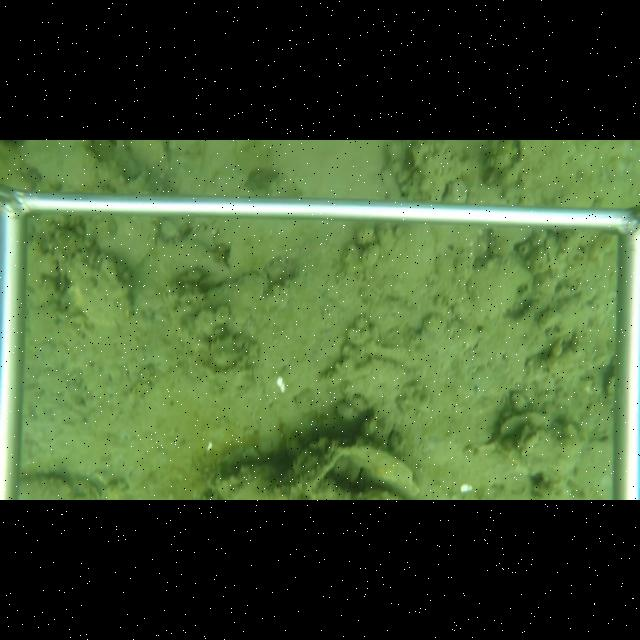Oyster-Closed: (360, 225, 442, 301), (63, 246, 136, 326), (465, 253, 539, 317), (343, 441, 421, 499), (275, 434, 342, 494), (201, 268, 270, 311), (488, 410, 554, 442)
